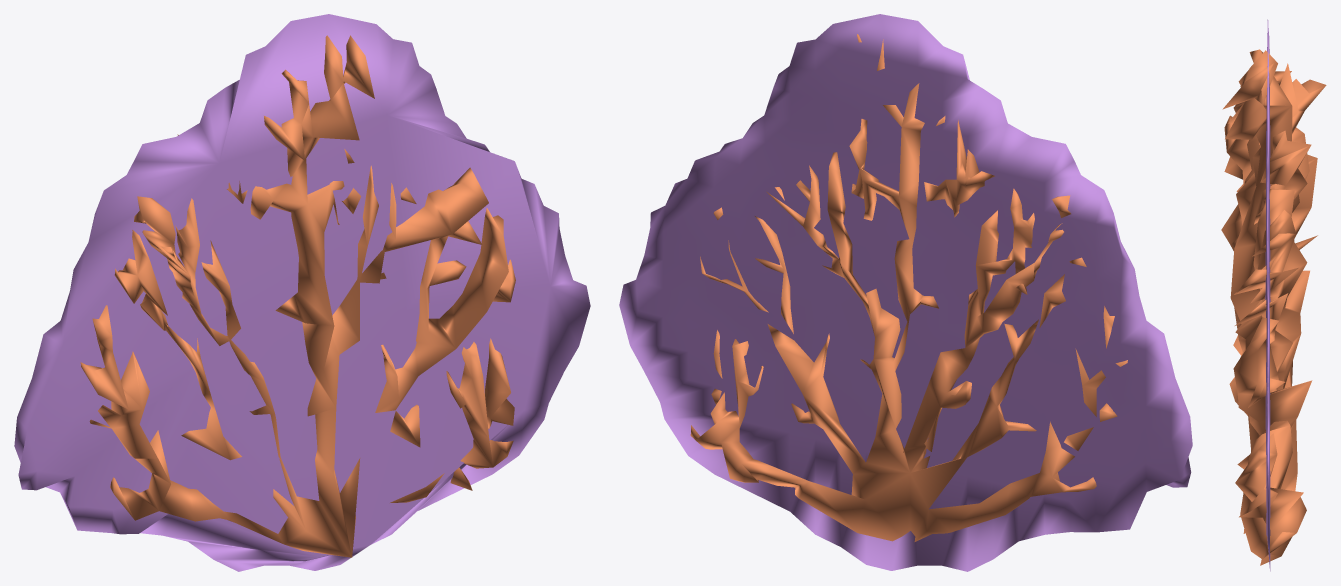
File: SeaFan_StemWeb.fbx
3 views of the same model, side by side, from view 1: azimuth 30°, elevation 25°; view 2: azimuth 150°, elevation 25°; view 3: azimuth 270°, elevation 25° (orthographic). The views are drawn at different scales.
Parts seen in each view (by area): view 1: SeaFanWeb, SeaFanStem; view 2: SeaFanWeb, SeaFanStem; view 3: SeaFanStem, SeaFanWeb.
Part boxes in pixels (x1=…): SeaFanWeb: x1=14, y1=14, x2=590, y2=571; SeaFanStem: x1=80, y1=35, x2=515, y2=557; SeaFanWeb: x1=619, y1=14, x2=1192, y2=571; SeaFanStem: x1=690, y1=34, x2=1127, y2=541; SeaFanStem: x1=1221, y1=49, x2=1326, y2=565; SeaFanWeb: x1=1265, y1=19, x2=1270, y2=571.
Bounding box in the file's own units: 4.08 × 3.77 × 0.6994.
